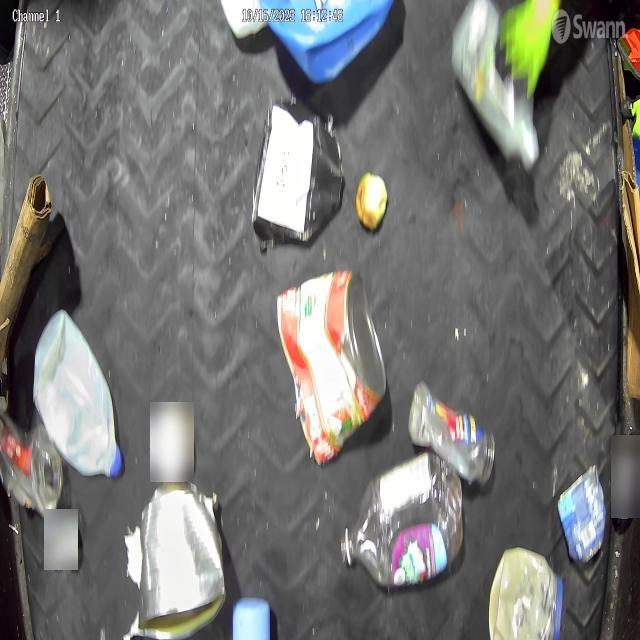milk_jug: (451, 0, 540, 173), (33, 310, 123, 477)
plastic_bottle: (340, 451, 464, 586), (408, 380, 496, 486)
